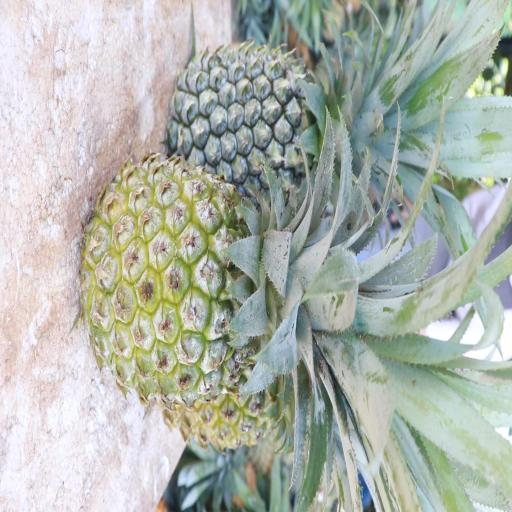------------------------------: (76, 154, 362, 406)
